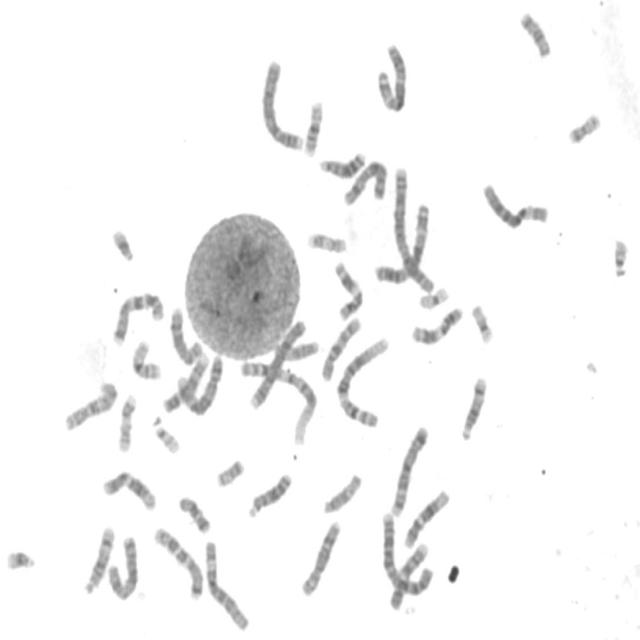A1: (236, 354, 319, 446), (332, 330, 391, 429)
A2: (390, 160, 436, 294), (377, 506, 435, 597)
A3: (370, 198, 431, 285), (373, 36, 409, 114)
B4: (244, 312, 308, 411), (256, 53, 305, 152)
B5: (386, 419, 430, 518), (171, 348, 225, 416)
C10: (60, 374, 119, 433), (317, 309, 363, 383)
C11: (407, 300, 465, 346), (330, 256, 365, 321)
C12: (399, 483, 452, 550), (98, 465, 158, 512)
C6: (200, 534, 252, 632), (478, 177, 551, 230)
C7: (149, 520, 205, 601), (108, 284, 167, 347)
C8: (296, 515, 342, 598), (166, 300, 204, 367)
C9: (159, 350, 211, 414), (386, 538, 430, 612)
D13: (244, 466, 293, 519), (315, 146, 367, 180)
D14: (80, 520, 116, 596), (457, 371, 488, 442)
D15: (319, 468, 363, 515), (276, 335, 320, 362)
E16: (127, 333, 163, 382), (299, 94, 325, 158)
E17: (113, 387, 138, 454), (303, 226, 349, 255)
E18: (516, 5, 553, 60), (174, 489, 212, 535)
F19: (467, 297, 496, 345), (415, 280, 451, 310)
F20: (564, 106, 602, 146), (212, 453, 246, 489)
G21: (107, 222, 136, 263), (1, 543, 36, 572)
G22: (148, 412, 182, 455), (608, 232, 630, 279)
X: (103, 528, 140, 602), (339, 154, 389, 207)
